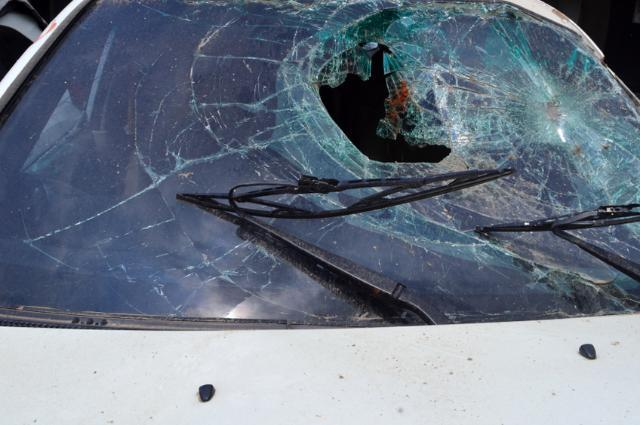Windshield: (0, 0, 640, 330)
